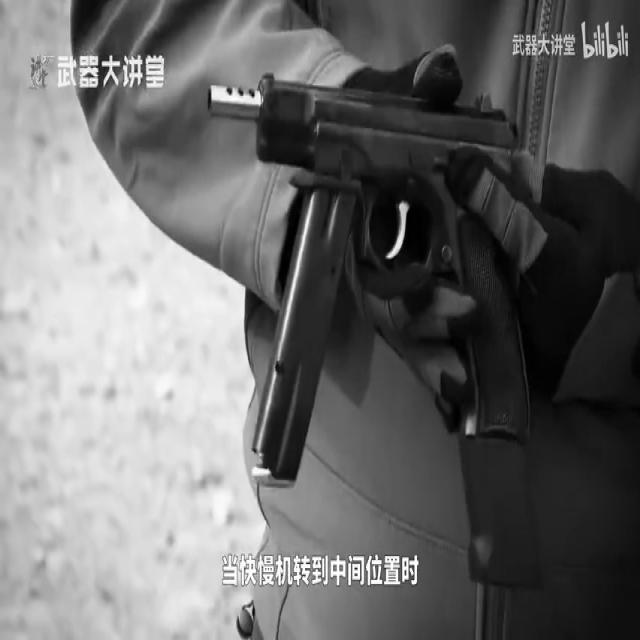Hand-Gun: (203, 43, 546, 581)
